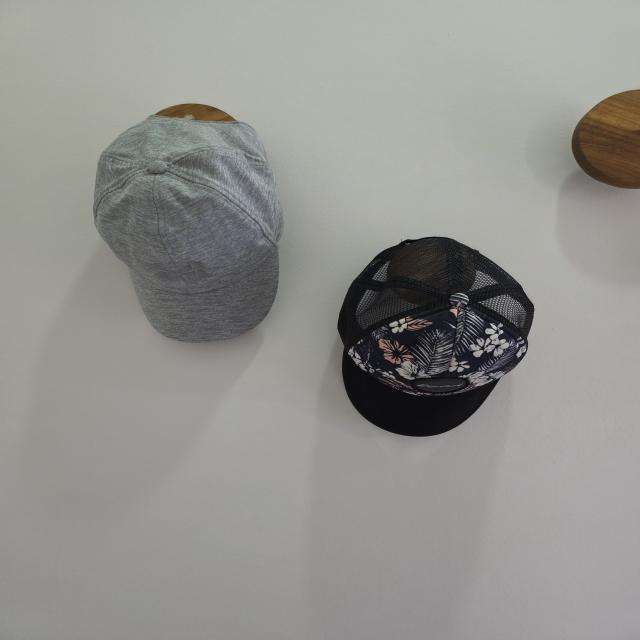Gorra: (91, 113, 296, 345), (332, 235, 536, 442)
